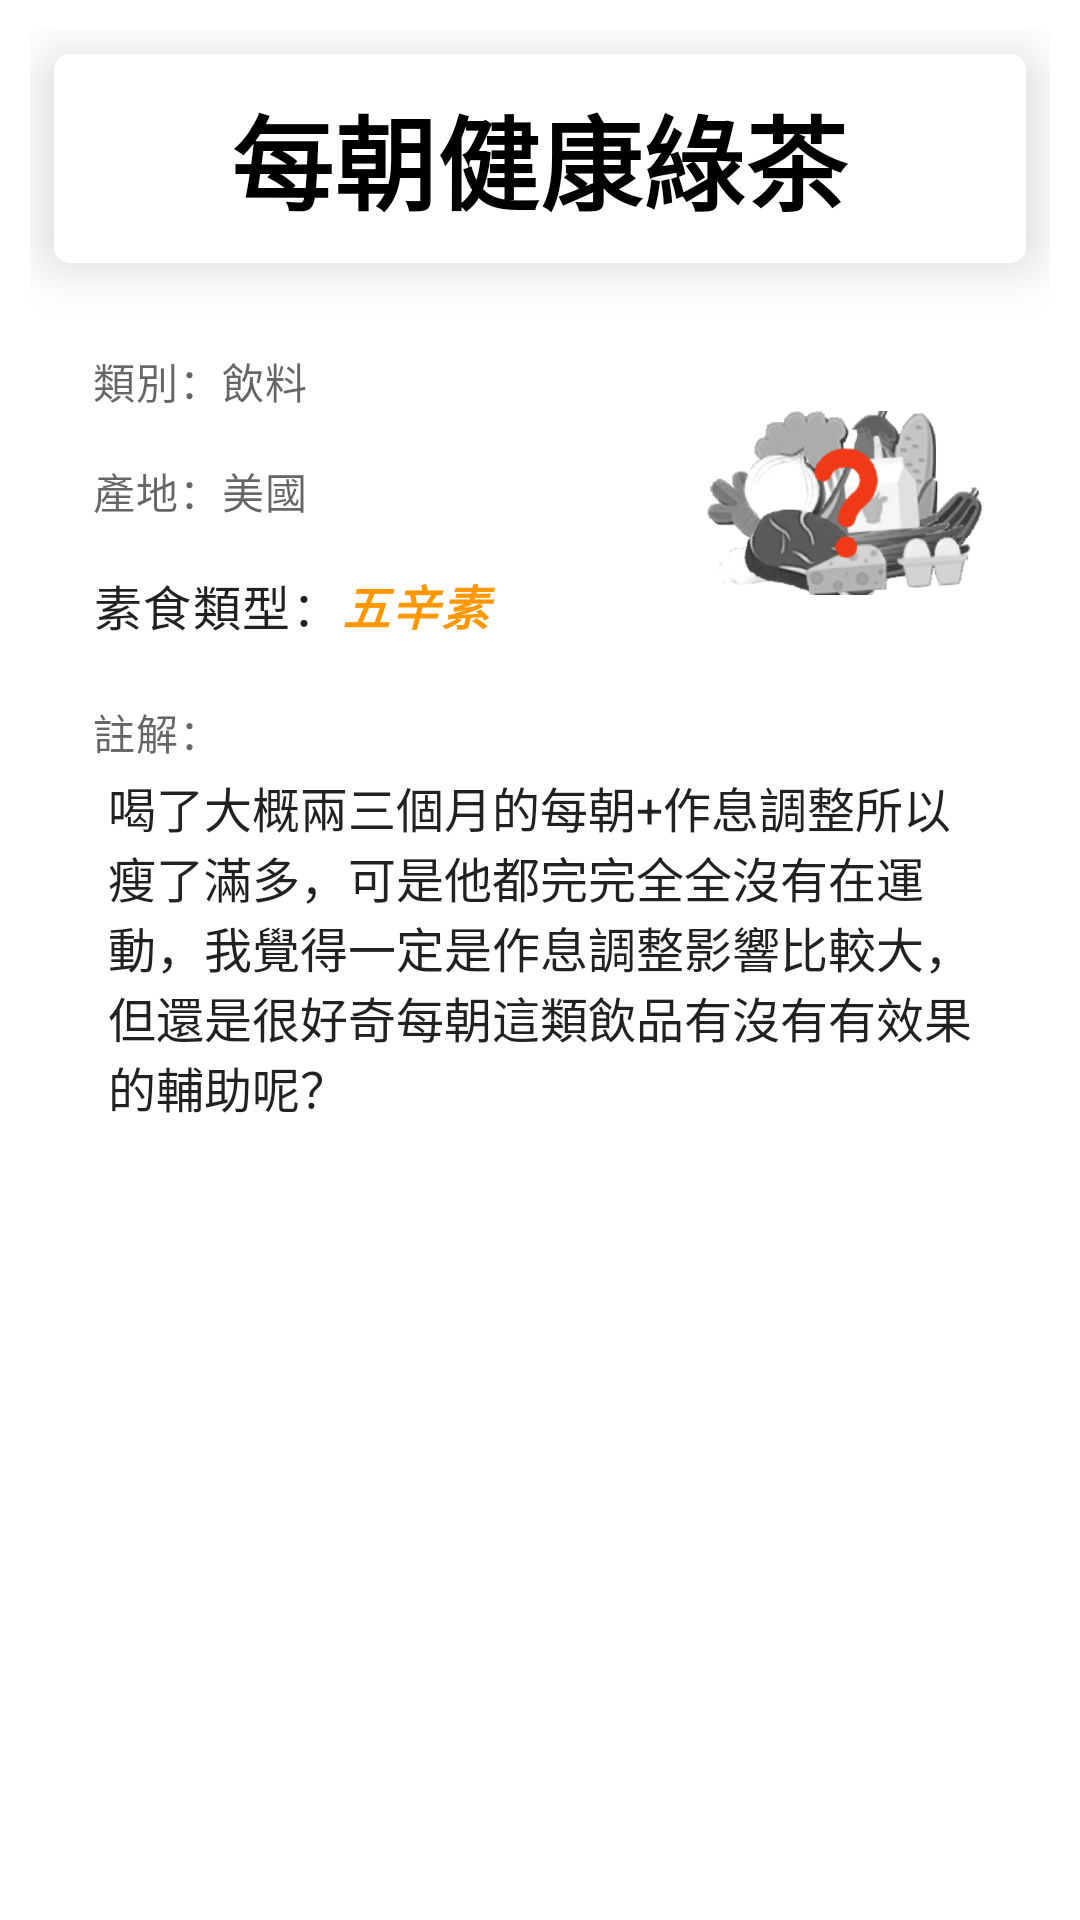

Named icons in this screenshot (1080*1920) and their centers, (x,y):
unknow vegetarian: (844,503)
